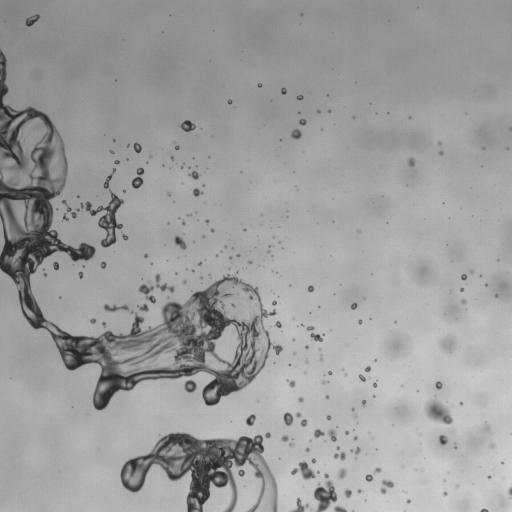droplet: (62, 190, 123, 247), (138, 274, 174, 302), (313, 473, 337, 511), (424, 397, 452, 424), (291, 461, 315, 479), (439, 335, 456, 352), (290, 498, 308, 511), (380, 480, 393, 494), (25, 14, 39, 26), (174, 236, 186, 249), (184, 379, 196, 392), (181, 120, 195, 131), (283, 412, 293, 425), (291, 129, 301, 139), (246, 414, 255, 425), (328, 429, 336, 441), (334, 452, 345, 460), (438, 435, 447, 444), (133, 142, 141, 152), (189, 171, 199, 179), (314, 429, 324, 437), (407, 157, 415, 166), (193, 188, 202, 196), (338, 469, 346, 478), (138, 304, 148, 311), (483, 422, 490, 431), (287, 380, 295, 387), (435, 381, 442, 389), (352, 447, 360, 454), (344, 489, 351, 497), (307, 285, 314, 292), (358, 374, 365, 381), (300, 419, 307, 426), (365, 474, 372, 481), (373, 467, 381, 473), (299, 119, 306, 125), (100, 261, 106, 268), (281, 435, 288, 441), (351, 303, 357, 309), (275, 321, 281, 327), (53, 262, 58, 269), (281, 88, 286, 94), (62, 215, 68, 220), (122, 234, 127, 240), (78, 272, 83, 278), (265, 432, 270, 438), (321, 380, 328, 384), (461, 274, 466, 279), (461, 299, 466, 304), (230, 303, 235, 308), (90, 318, 95, 323), (365, 366, 370, 371), (298, 397, 303, 402), (296, 412, 301, 417), (490, 443, 495, 448), (297, 95, 303, 99), (373, 381, 377, 387), (362, 400, 366, 406), (358, 319, 362, 324), (443, 491, 447, 496), (175, 145, 179, 149), (272, 301, 276, 305), (353, 436, 357, 440), (406, 499, 410, 503), (114, 160, 118, 163), (239, 302, 242, 306), (102, 322, 105, 326), (328, 371, 331, 375), (327, 415, 330, 419), (312, 458, 315, 462), (258, 83, 261, 86), (228, 100, 231, 103), (317, 110, 320, 113), (110, 150, 113, 153), (439, 151, 442, 154), (182, 221, 185, 224), (144, 254, 147, 257), (248, 260, 251, 263), (198, 262, 201, 265), (495, 294, 498, 297), (325, 395, 328, 398), (345, 431, 348, 434), (289, 443, 292, 446), (306, 448, 309, 451), (358, 489, 361, 492), (206, 219, 208, 223), (211, 228, 213, 231), (44, 273, 46, 276), (183, 281, 186, 283), (461, 288, 463, 291), (305, 346, 308, 348), (460, 402, 463, 404), (336, 447, 339, 449), (488, 475, 490, 478), (328, 110, 330, 112), (438, 142, 440, 144), (171, 157, 173, 159), (123, 190, 125, 192), (167, 193, 169, 195), (237, 254, 239, 256), (229, 257, 231, 259), (470, 270, 472, 272), (353, 414, 355, 416), (454, 446, 456, 448)
ligament: (0, 49, 283, 410), (120, 432, 277, 511), (131, 168, 143, 188), (306, 326, 322, 341), (103, 169, 115, 188), (104, 304, 128, 311), (334, 505, 347, 511), (508, 486, 511, 498), (480, 508, 488, 511), (510, 127, 511, 130)
